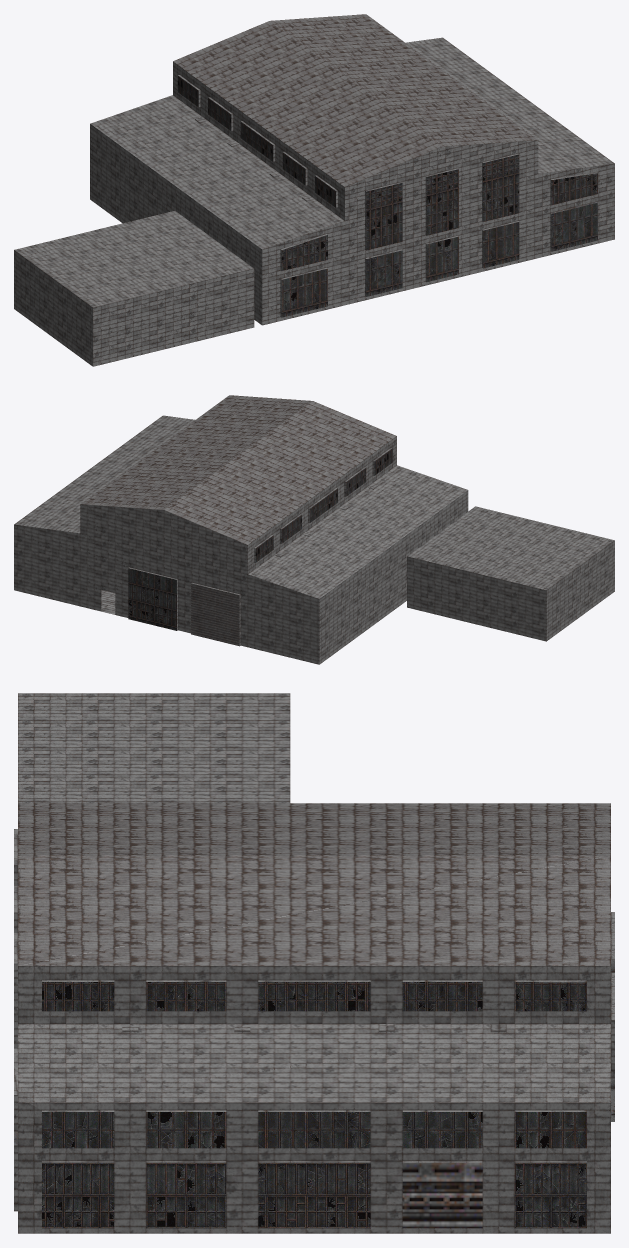
Rendered from Ed is Srupid.fbx.
3 views of the same model, one above another, from view 1: azimuth 30°, elevation 25°; view 2: azimuth 150°, elevation 25°; view 3: azimuth 270°, elevation 25° (orthographic). The views are drawn at different scales.
Visible parts, largest first — view 1: Warehouse-col; view 2: Warehouse-col; view 3: Warehouse-col.
Boxes of the visible parts, x1,y1,x2,y2 form: Warehouse-col: (14, 14, 614, 366); Warehouse-col: (14, 395, 614, 664); Warehouse-col: (14, 693, 614, 1233).
Size of the model in its own units: 8156 by 2006 by 4703.
Materials: 6 (6 with a texture image).
